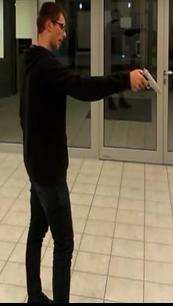pistol: (135, 66, 161, 94)
